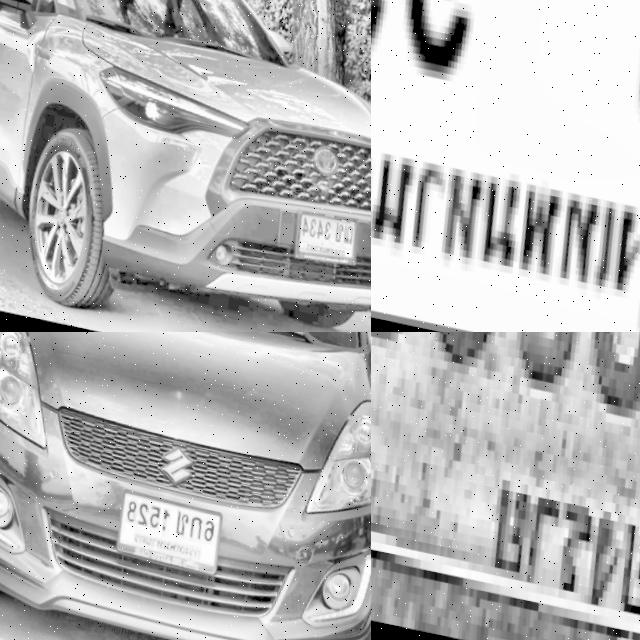license-plate: (371, 0, 640, 332), (371, 332, 640, 640), (98, 486, 220, 573), (278, 203, 352, 266)
